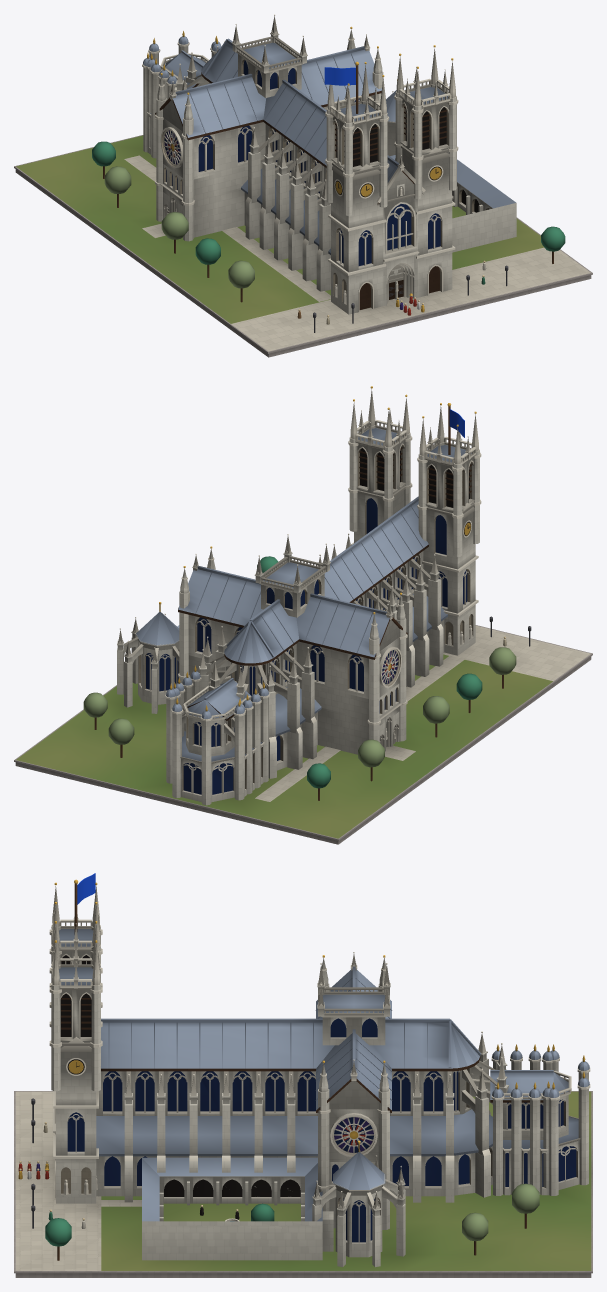
File: lm_westminster.glb
3 views of the same model, one above another, from view 1: azimuth 30°, elevation 25°; view 2: azimuth 150°, elevation 25°; view 3: azimuth 270°, elevation 25° (orthographic). The views are drawn at different scales.
Visible parts, largest first — view 1: lm_westminster; view 2: lm_westminster; view 3: lm_westminster.
Boxes of the visible parts, x1,y1,x2,y2 form: lm_westminster: [14, 14, 592, 357]; lm_westminster: [14, 386, 592, 844]; lm_westminster: [14, 873, 592, 1277].
Size of the model in its own units: 1.69 by 1.24 by 2.29.
1 material, 1 textured.
